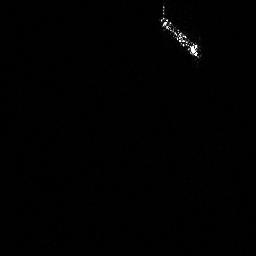ship: (157, 3, 203, 60)
